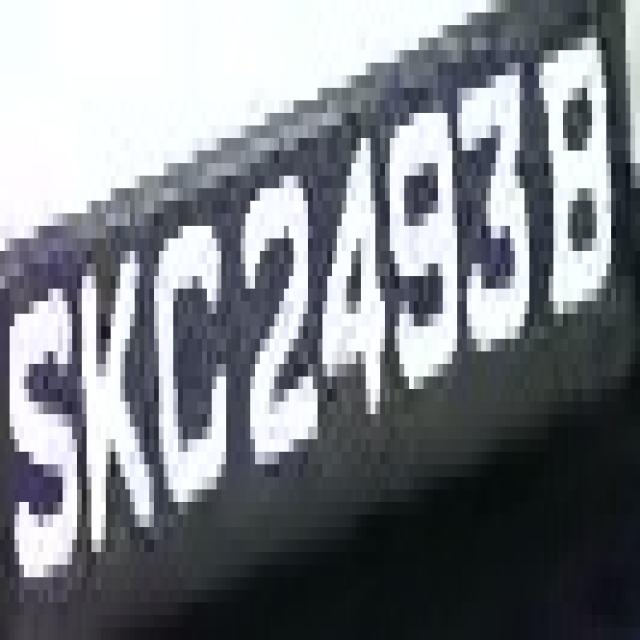2: (245, 138, 322, 515)
3: (448, 50, 554, 364)
4: (313, 100, 399, 464)
9: (380, 101, 472, 414)
B: (548, 50, 630, 377)
C: (154, 188, 231, 502)
K: (68, 188, 150, 540)
S: (14, 238, 82, 615)
